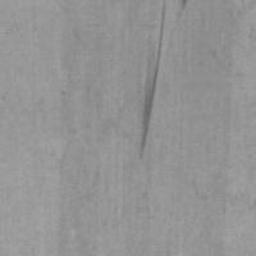Inclusion: (138, 0, 169, 157), (175, 0, 188, 18)
